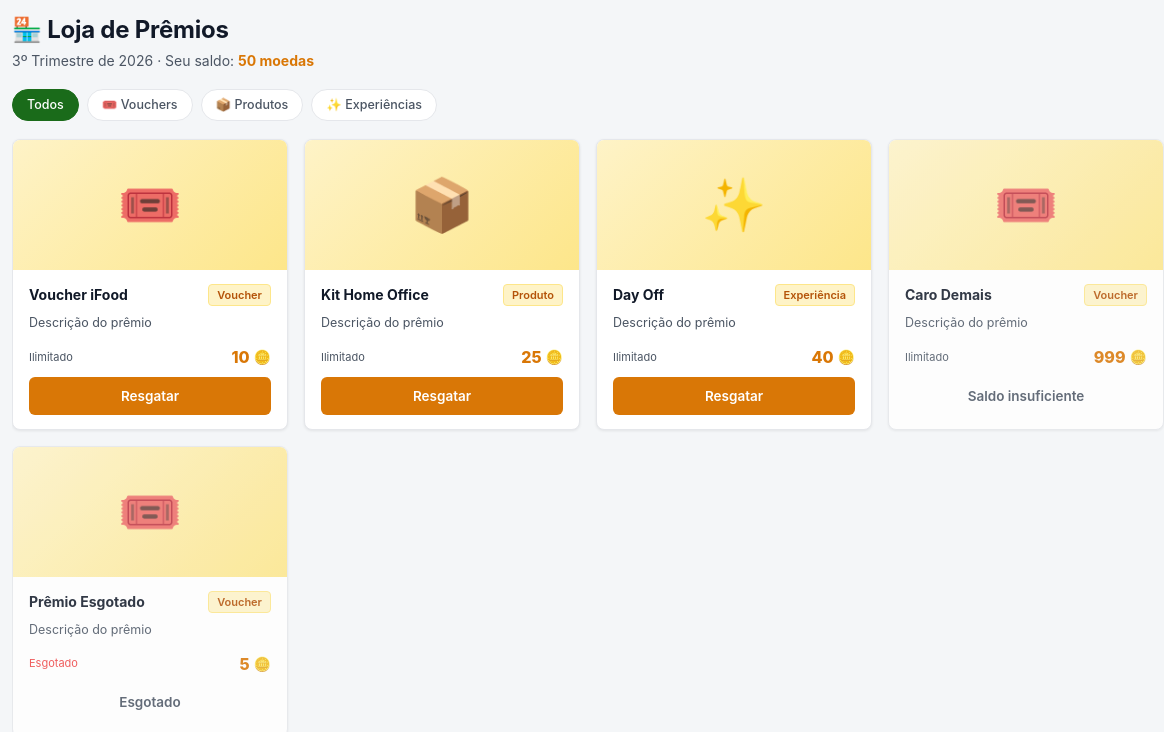
Test: LojaPage — filtros por categoria › filtro Experiências exibe apenas experiências
Click the button "✨ Experiências" at (374, 105), box [311, 89, 437, 121]
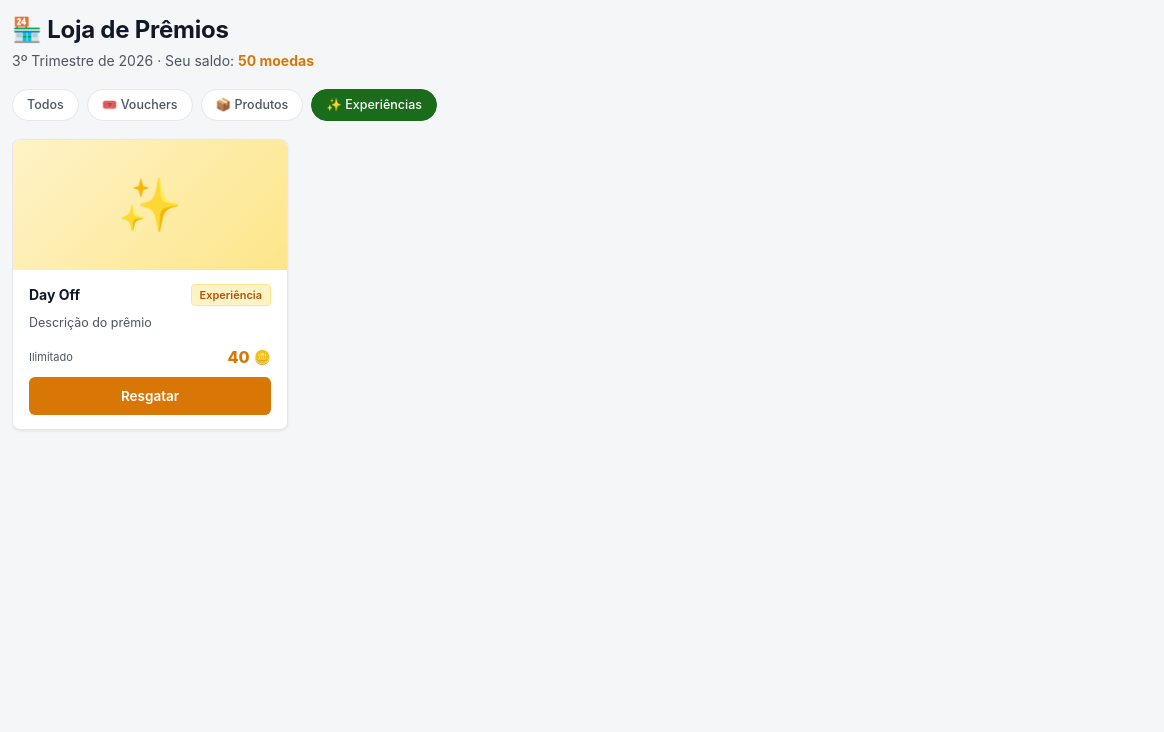
expect the text "Day Off" is shown: met, box [29, 284, 80, 305]
expect the text "Voucher iFood" is gone: met
